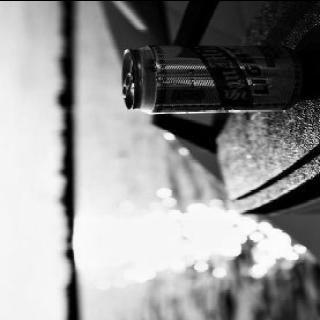alumunium_can: (119, 42, 306, 112)
